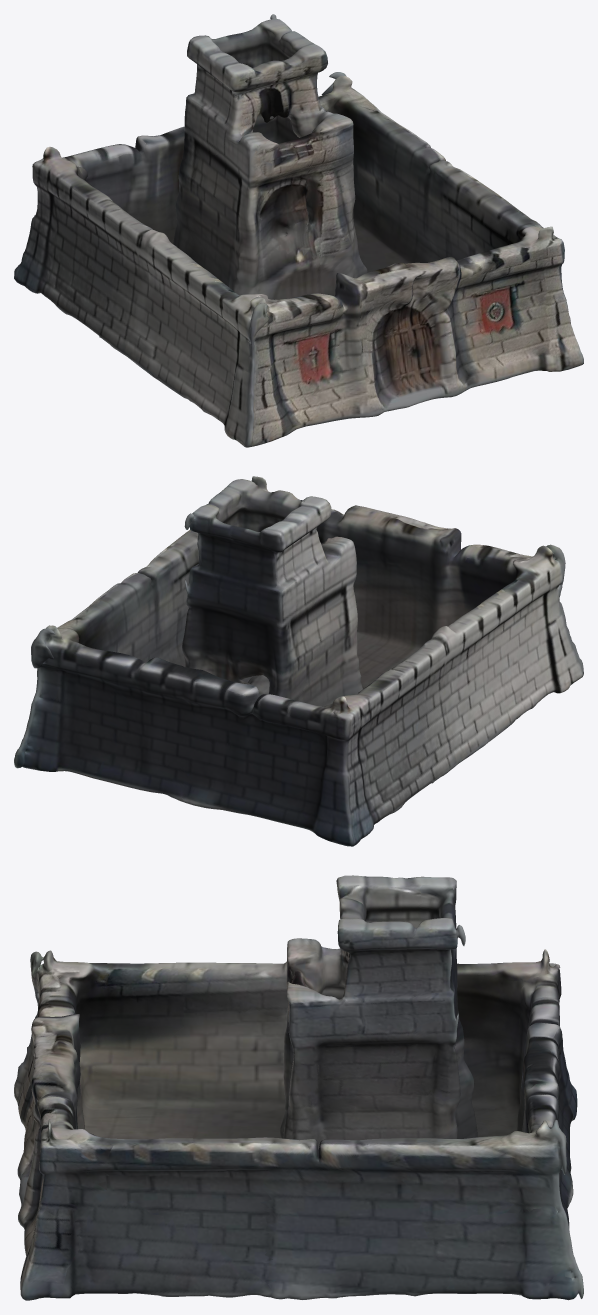
The model's file is fortress.glb.
The picture shows the model from 3 angles, top to bottom: view 1: azimuth 30°, elevation 25°; view 2: azimuth 150°, elevation 25°; view 3: azimuth 270°, elevation 25°; orthographic projection. The views are drawn at different scales.
Parts seen in each view (by area): view 1: tripo_node_88ed72c9-c41e-47fb-8d05-a9ed72862360; view 2: tripo_node_88ed72c9-c41e-47fb-8d05-a9ed72862360; view 3: tripo_node_88ed72c9-c41e-47fb-8d05-a9ed72862360.
Part boxes in pixels (x1=…): tripo_node_88ed72c9-c41e-47fb-8d05-a9ed72862360: x1=14, y1=14, x2=583, y2=447; tripo_node_88ed72c9-c41e-47fb-8d05-a9ed72862360: x1=14, y1=476, x2=583, y2=846; tripo_node_88ed72c9-c41e-47fb-8d05-a9ed72862360: x1=14, y1=875, x2=583, y2=1300.
Size of the model in its own units: 0.5994 by 0.4224 by 0.7214.
Materials: 1 (1 with a texture image).
